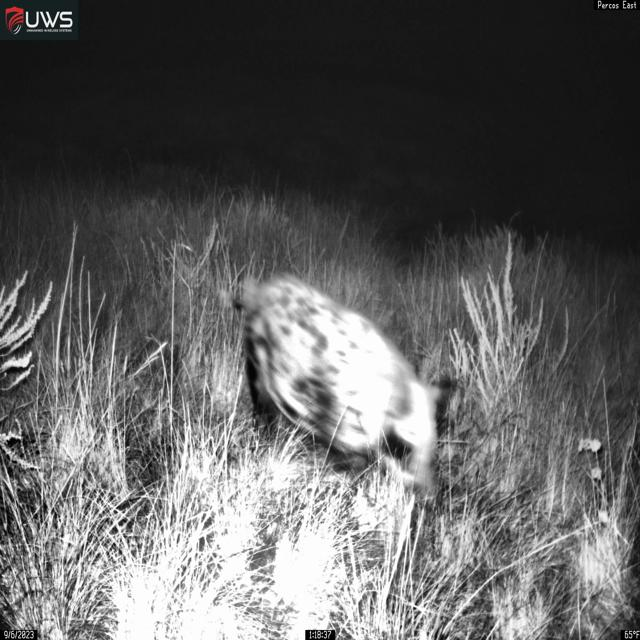pig: (230, 270, 454, 506)
